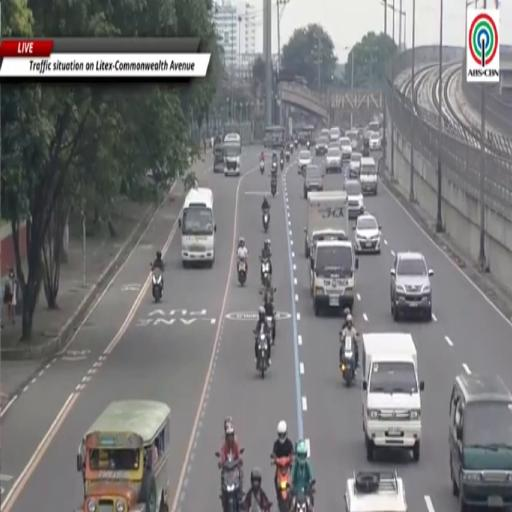bus: (178, 188, 216, 268), (264, 125, 284, 149)
car: (391, 252, 433, 321), (354, 214, 381, 253), (345, 180, 364, 218), (303, 164, 323, 198), (360, 157, 377, 195), (325, 148, 341, 173), (349, 153, 362, 179), (298, 150, 312, 174), (315, 135, 329, 155), (346, 130, 358, 151), (339, 137, 352, 154), (369, 133, 381, 151), (330, 127, 341, 140), (328, 141, 339, 150), (320, 128, 329, 138)
jeepney: (77, 400, 170, 511)
motorcycle: (271, 455, 292, 511), (221, 458, 242, 511), (291, 479, 315, 511), (340, 336, 355, 387), (257, 326, 269, 378), (265, 288, 276, 344), (152, 267, 163, 302), (261, 259, 270, 290), (266, 315, 275, 344), (237, 260, 247, 285), (262, 211, 269, 232), (271, 179, 276, 197), (271, 160, 277, 173), (259, 160, 264, 174), (280, 158, 284, 170), (289, 142, 293, 154), (286, 150, 290, 162), (294, 139, 298, 148), (307, 140, 309, 149)
truck: (360, 333, 424, 461), (310, 239, 359, 315), (304, 190, 349, 258), (345, 471, 407, 511), (224, 134, 241, 175), (213, 142, 224, 172)
